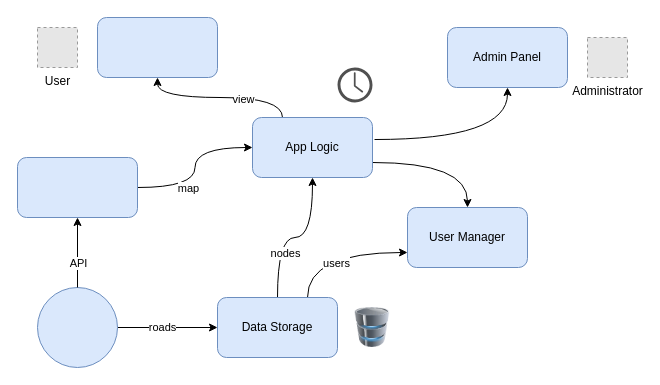
This 660x385 diagram has some shape labels left out. Grey dashed boxes stand in for pictures. Here are the shapes that lost their labels. From the top down, the centre of each, then its label:
At (x=157, y=47): "App UI".
At (x=77, y=187): "Map Display".
At (x=77, y=327): "OpenStreetMaps".
